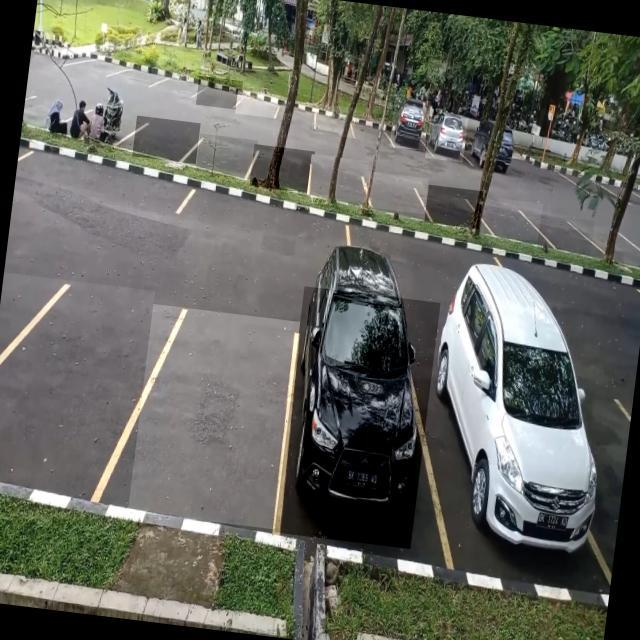empty: (126, 304, 304, 530), (0, 272, 154, 509), (132, 115, 200, 164), (248, 144, 314, 193), (306, 154, 369, 204), (195, 133, 257, 180), (362, 170, 428, 214), (480, 196, 543, 241), (424, 184, 483, 228), (537, 214, 594, 254), (195, 76, 242, 110), (312, 102, 356, 138), (235, 90, 280, 118)
occupied: (412, 322, 614, 580), (274, 286, 441, 548), (388, 97, 431, 151), (424, 114, 468, 162)
